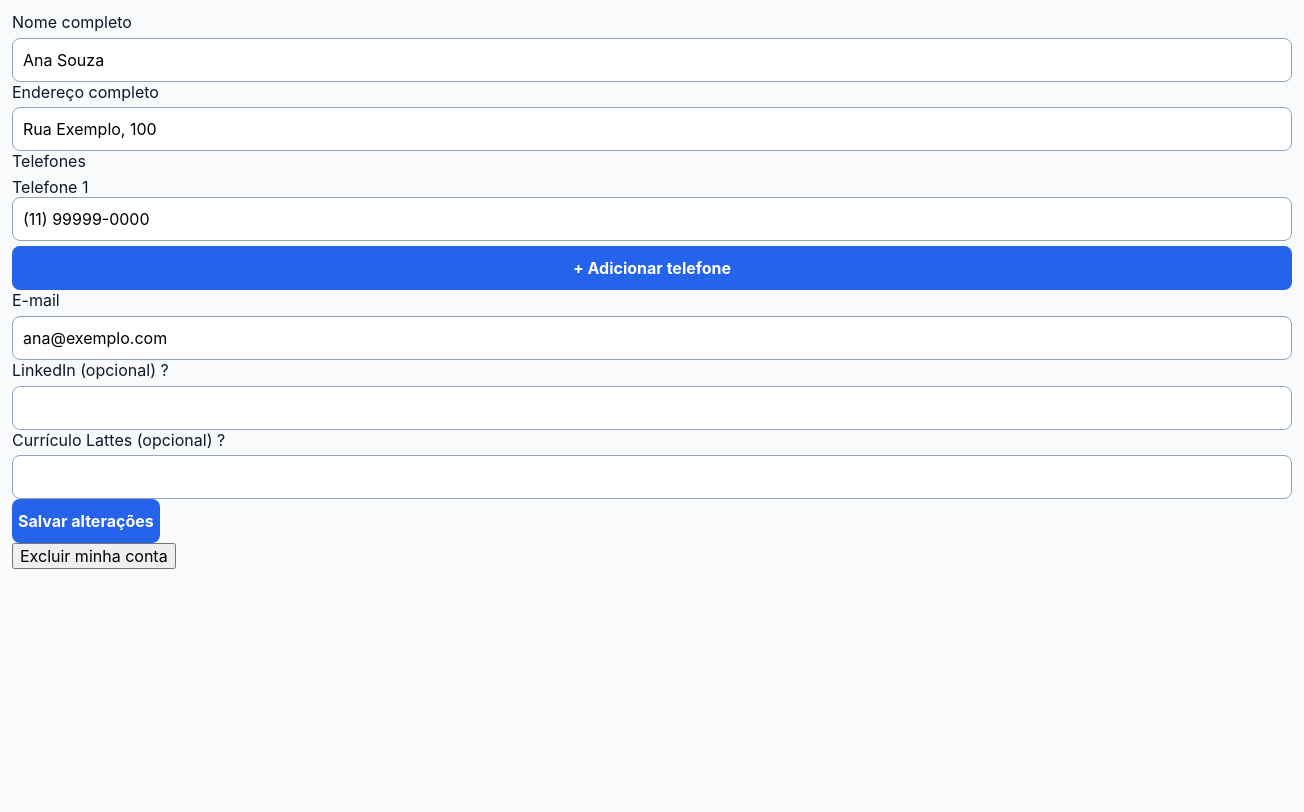
Test: FormularioEdicaoPerfil — acessibilidade dos links profissionais › associa cada erro de URL inválida ao respectivo campo
This screenshot has width=1304, height=812.
Type "linkedin.exemplo.dev/ana" into the field labelled "LinkedIn (opcional) ?" at coordinates (652, 408), box [12,386,1292,430]
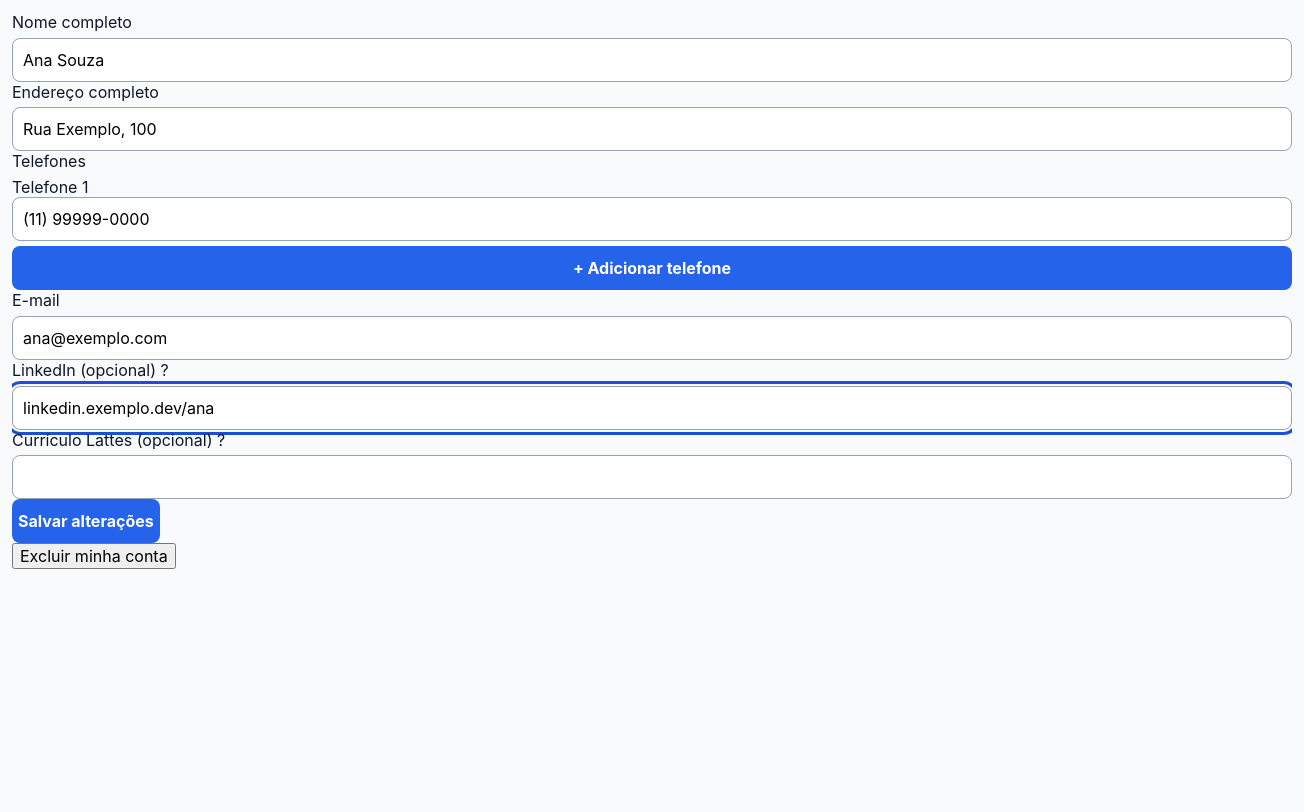
Type "lattes.exemplo.dev/ana" into the field labelled "Currículo Lattes (opcional) ?" at coordinates (652, 477), box [12,455,1292,499]
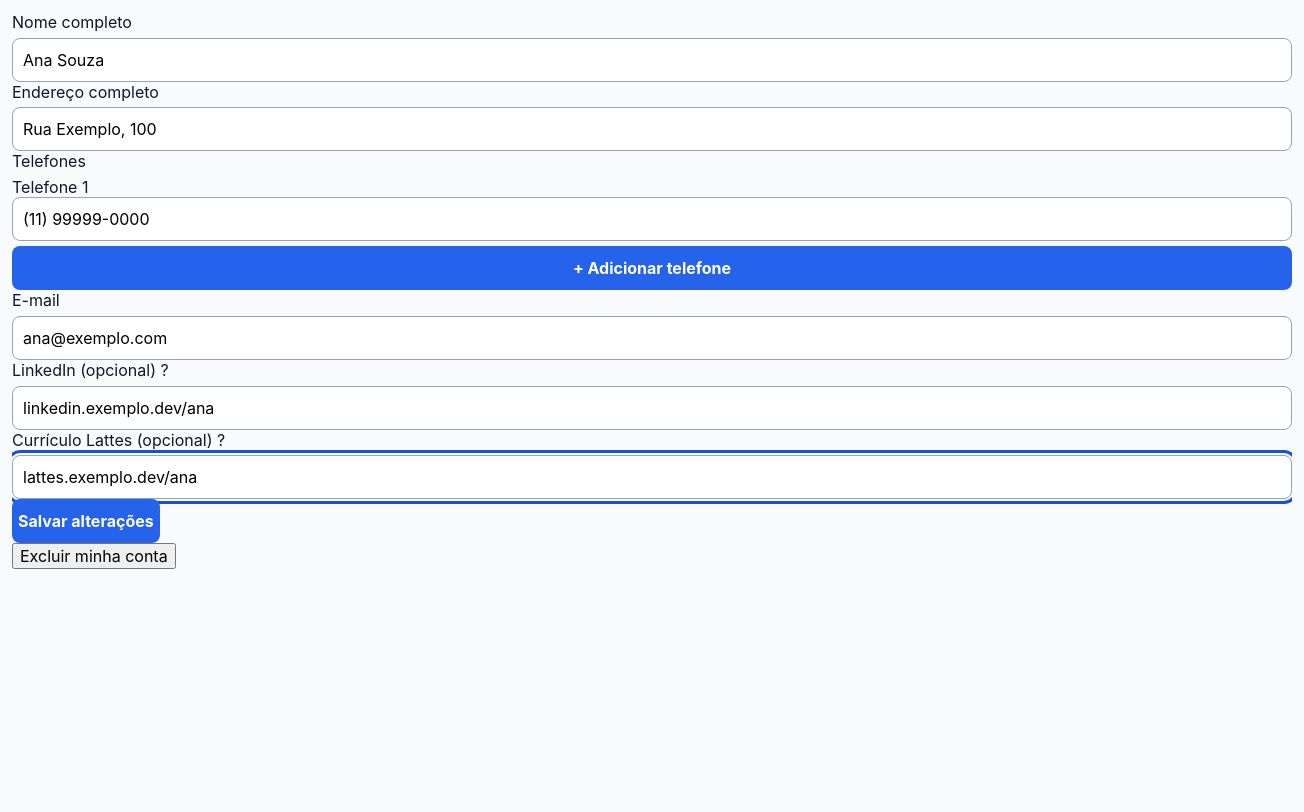
Click the button "Salvar alterações" at coordinates (86, 521), box [12,499,160,543]
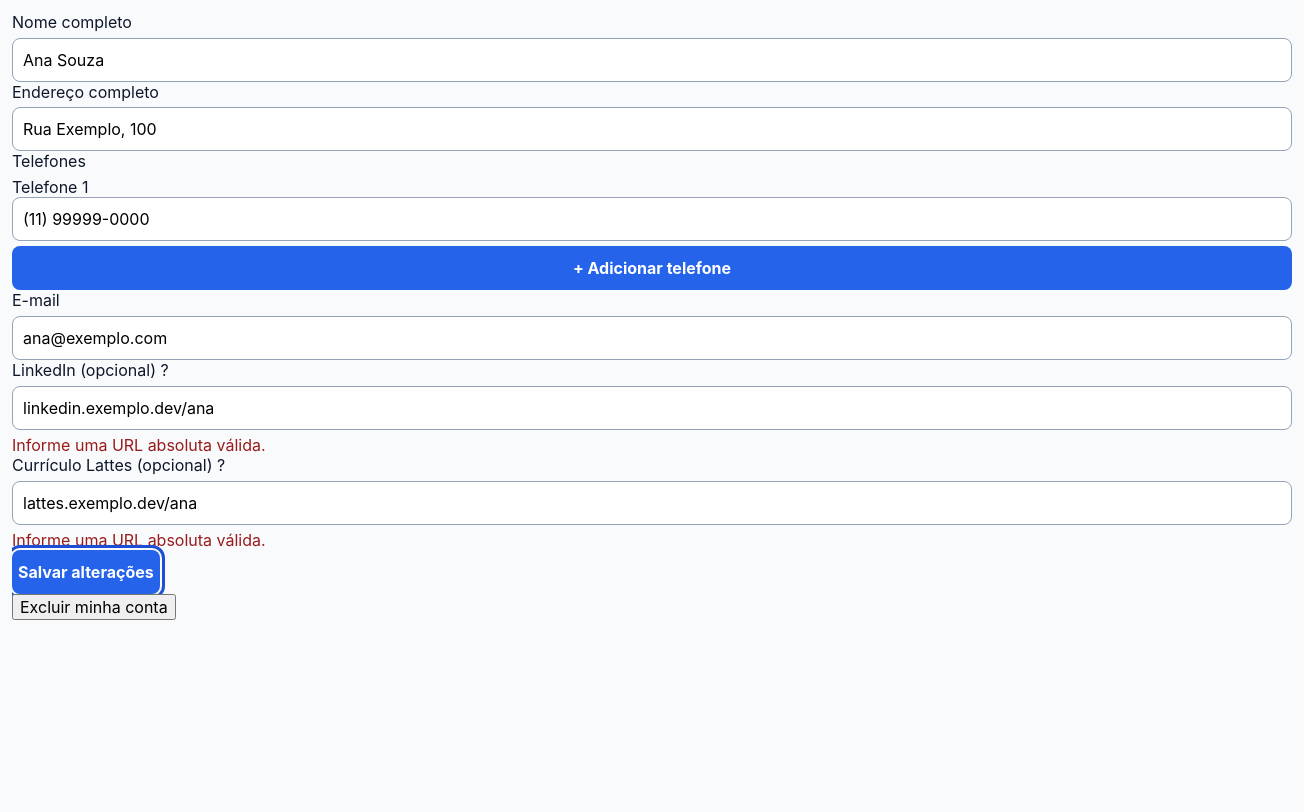
Check: the text "Informe uma URL absoluta válida." is shown 2 times, box [12,435,266,455]; [12,530,266,550]
